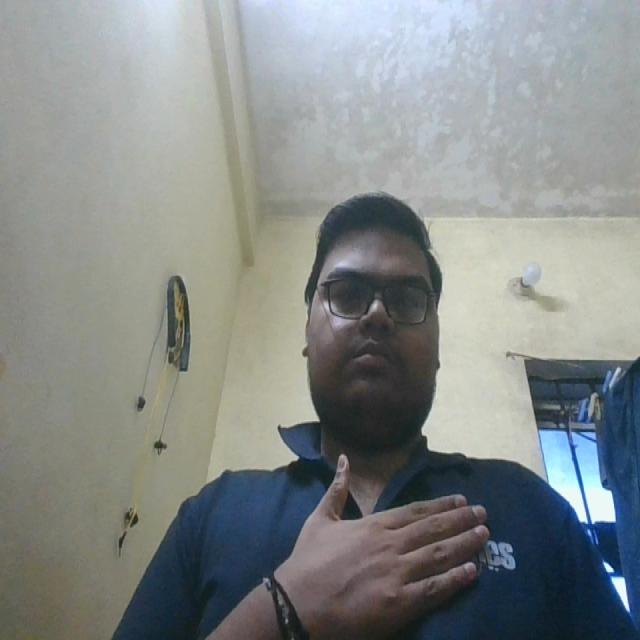Please: (288, 433, 514, 640)
